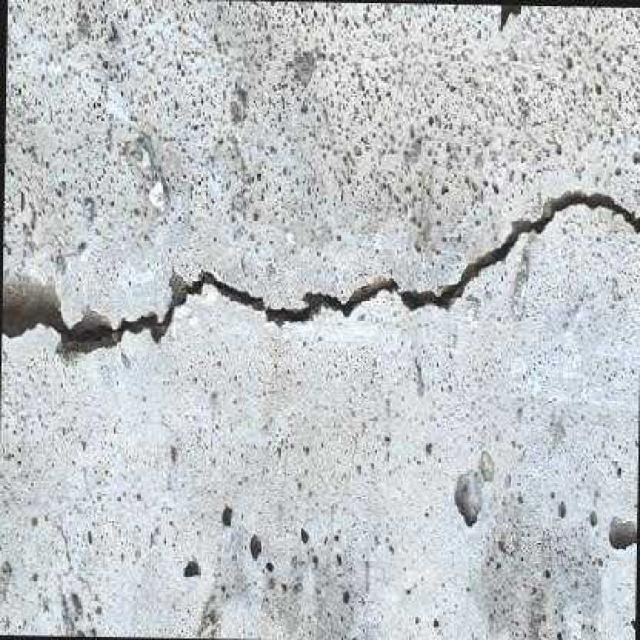D00: (0, 185, 640, 363)
